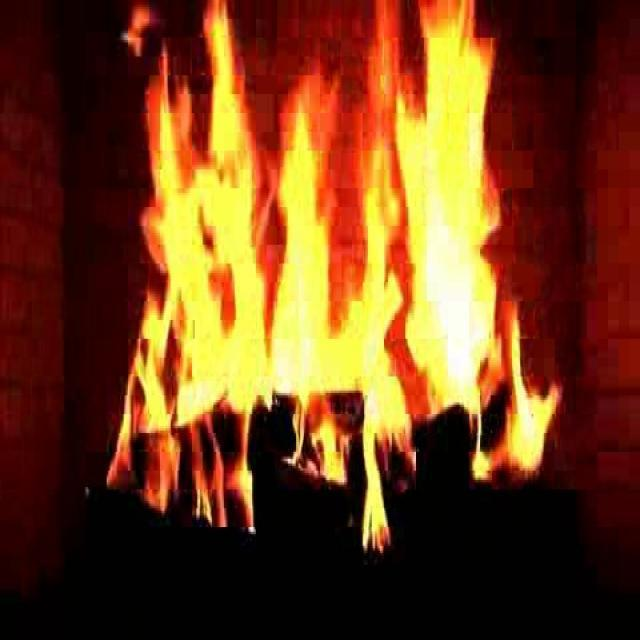Fire: (120, 19, 530, 478)
